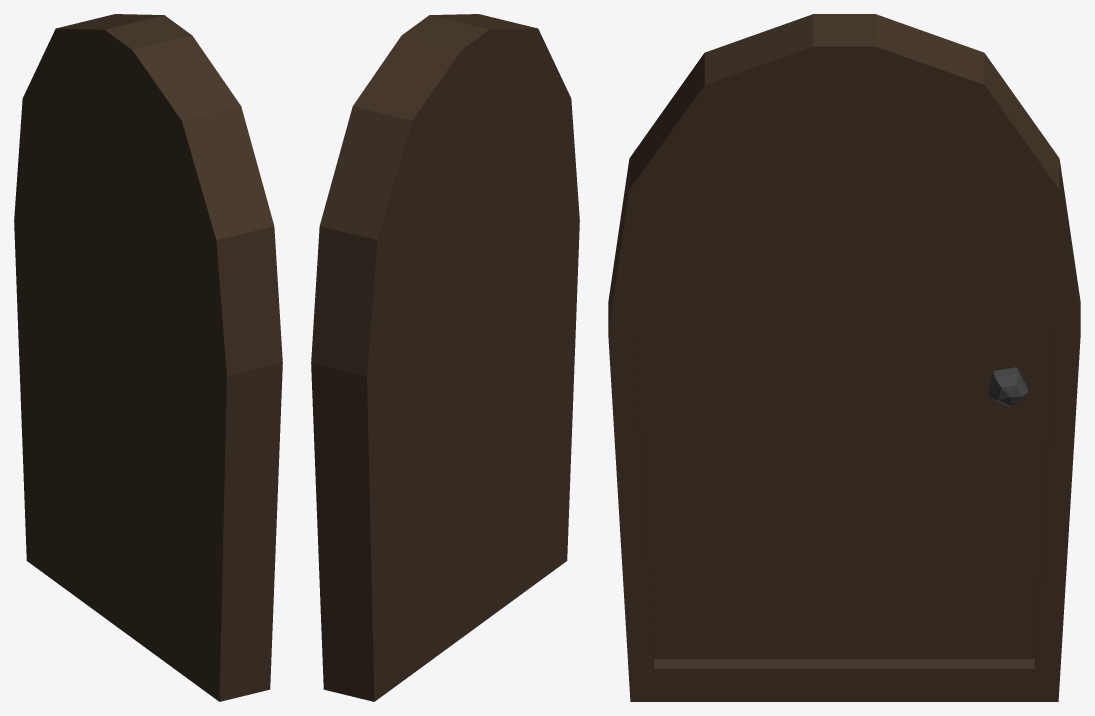
The model's file is CurveDoor.fbx.
3 views of the same model, side by side, from view 1: azimuth 30°, elevation 25°; view 2: azimuth 150°, elevation 25°; view 3: azimuth 270°, elevation 25° (orthographic). The views are drawn at different scales.
Parts seen in each view (by area): view 1: Sphere.003; view 2: Sphere.003; view 3: Sphere.003.
Part boxes in pixels (box(x1,y1,x2,y2)): Sphere.003: box(14, 14, 282, 701); Sphere.003: box(311, 14, 579, 701); Sphere.003: box(608, 14, 1080, 701).
Size of the model in its own units: 15.76 by 136 by 88.69.
